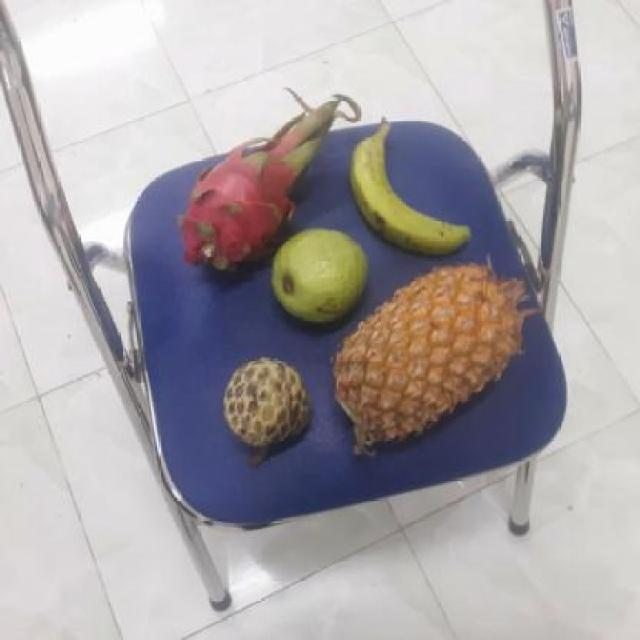banana: (351, 128, 475, 255)
dragon fruit: (184, 122, 335, 271)
guava: (272, 230, 373, 328)
pineapple: (336, 265, 535, 449)
sugar apple: (226, 358, 320, 450)
